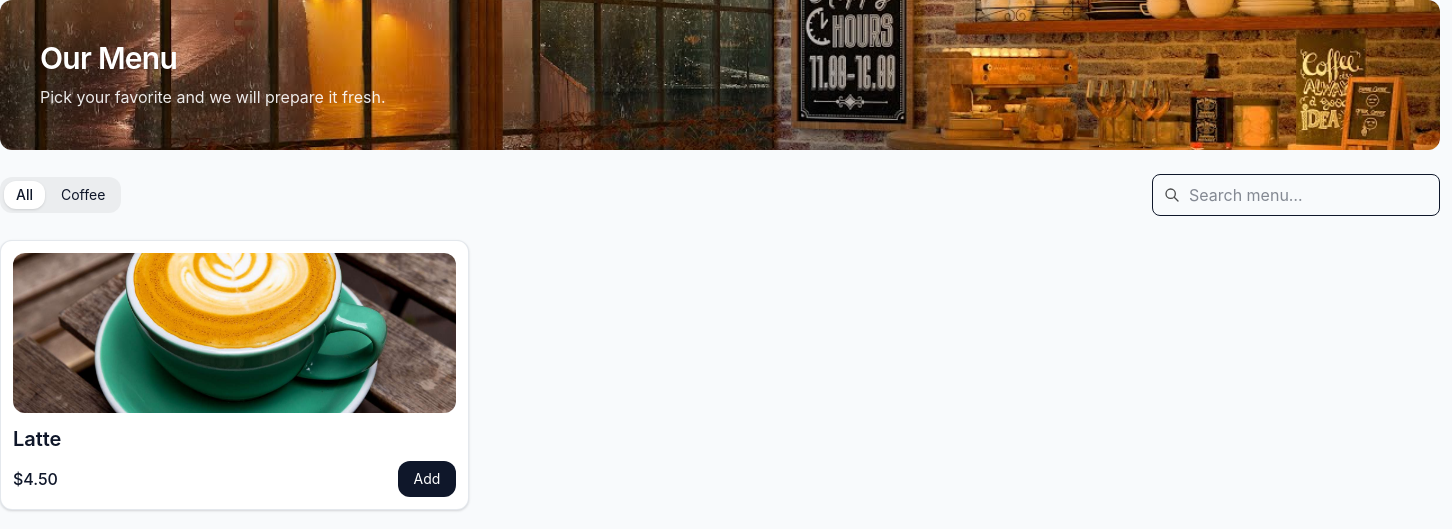
Test: MenuPage (integration) › shows empty message when filters exclude all items
Check: the heading "Latte" is shown, box [13, 427, 61, 451]
Step 1. Type "zzz" into the field with placeholder "Search menu…" → (1296, 195), box [1152, 174, 1440, 216]
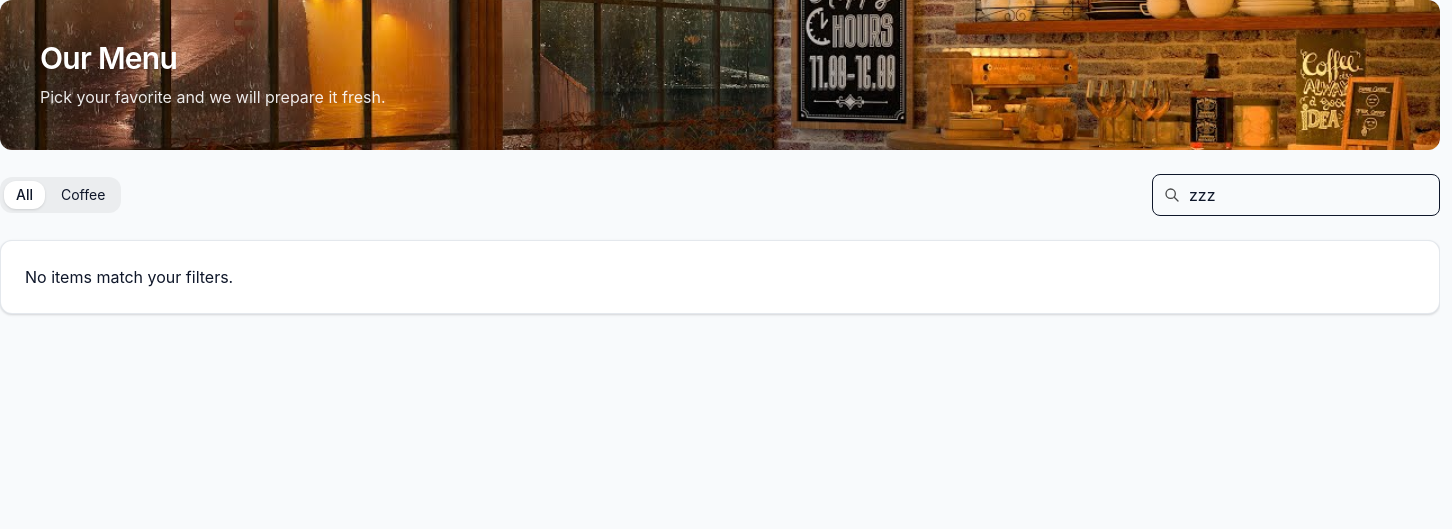
Check: the text "No items match your filters." is shown, box [0, 240, 1440, 314]
